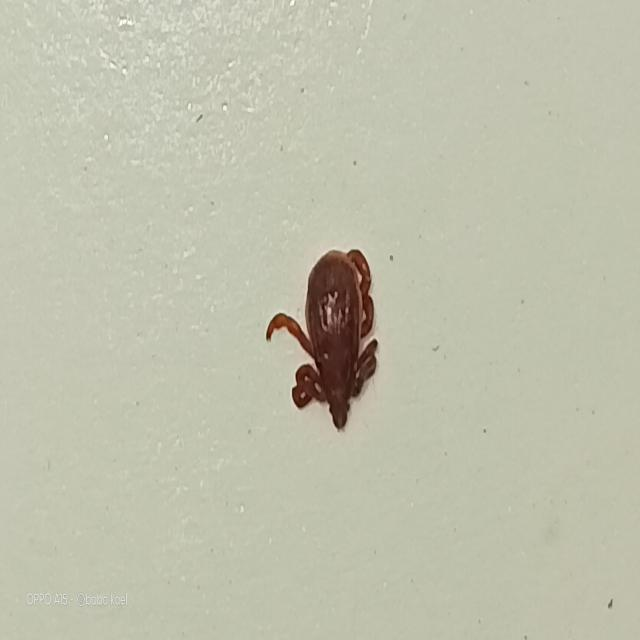Rhipicephalus Sanguineus-M: (265, 250, 380, 434)
